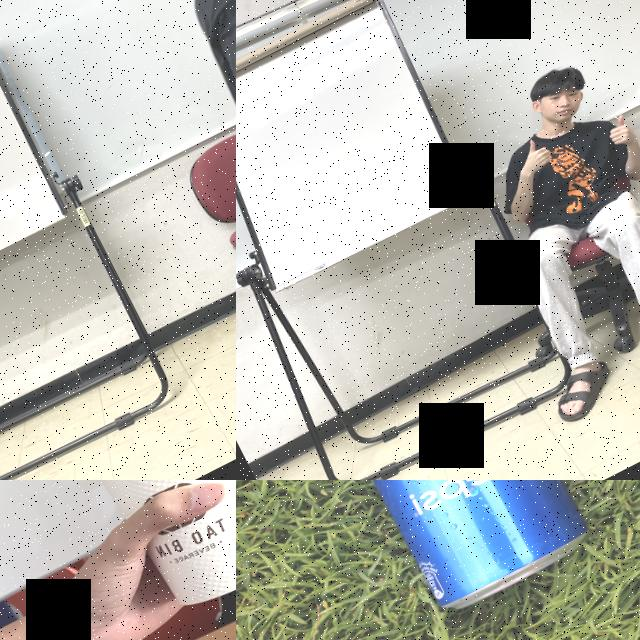can: (312, 480, 593, 618)
cup: (72, 480, 236, 632)
